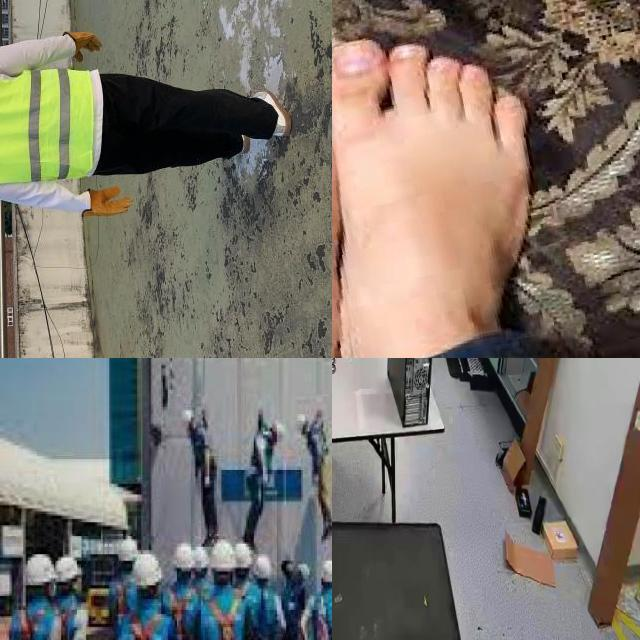Barefoots: (332, 22, 536, 358)
Harness: (201, 592, 264, 640), (12, 605, 66, 640)
boots: (250, 84, 298, 124)
person: (0, 14, 316, 222)
vest: (0, 65, 97, 189)
